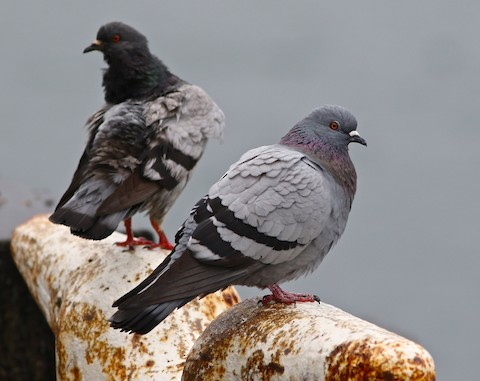pigeon: (106, 98, 370, 338), (47, 13, 230, 254)
